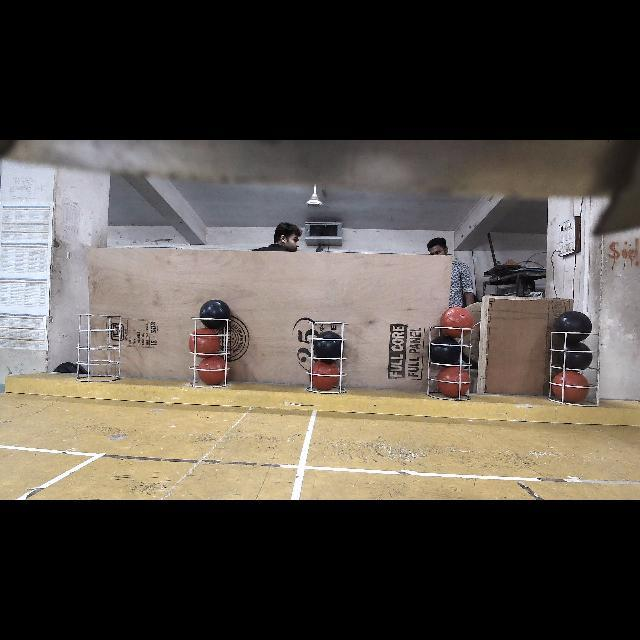P: (428, 334, 464, 366), (556, 341, 594, 369), (313, 331, 345, 361), (199, 300, 231, 330), (554, 311, 592, 332), (566, 334, 589, 342), (560, 335, 564, 339)
R: (551, 369, 589, 401), (197, 354, 229, 386), (436, 366, 470, 396), (440, 308, 474, 338), (309, 360, 339, 390), (190, 329, 220, 358)
S: (425, 322, 479, 406), (548, 328, 602, 408), (76, 313, 124, 389), (186, 314, 234, 390), (307, 320, 348, 396)
